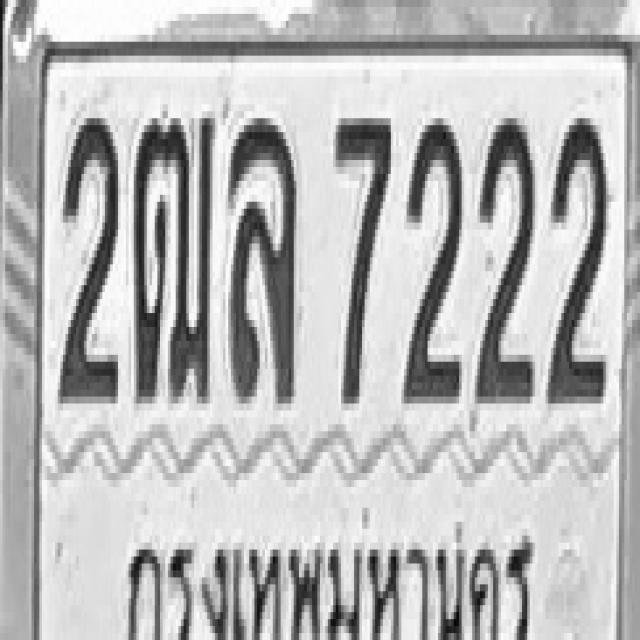2: (473, 112, 534, 404), (403, 112, 463, 404), (547, 112, 607, 404), (58, 112, 118, 404)
27ThorPhuThao: (131, 112, 215, 404)
45LorLing: (228, 112, 296, 404)
7: (333, 112, 391, 404)
Bangkok: (106, 496, 539, 640)
